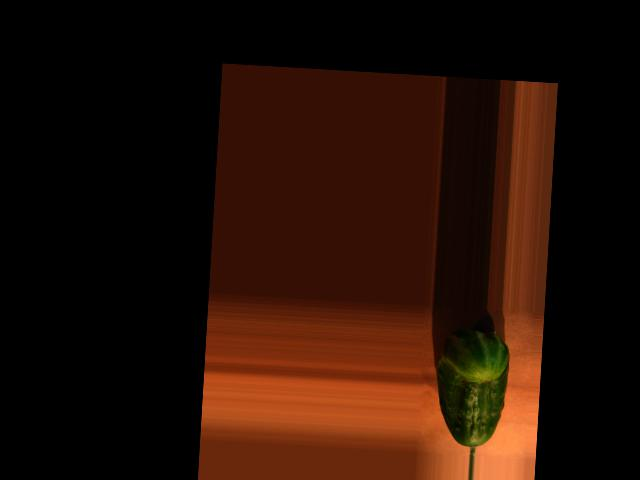cucumber: (433, 328, 511, 449)
